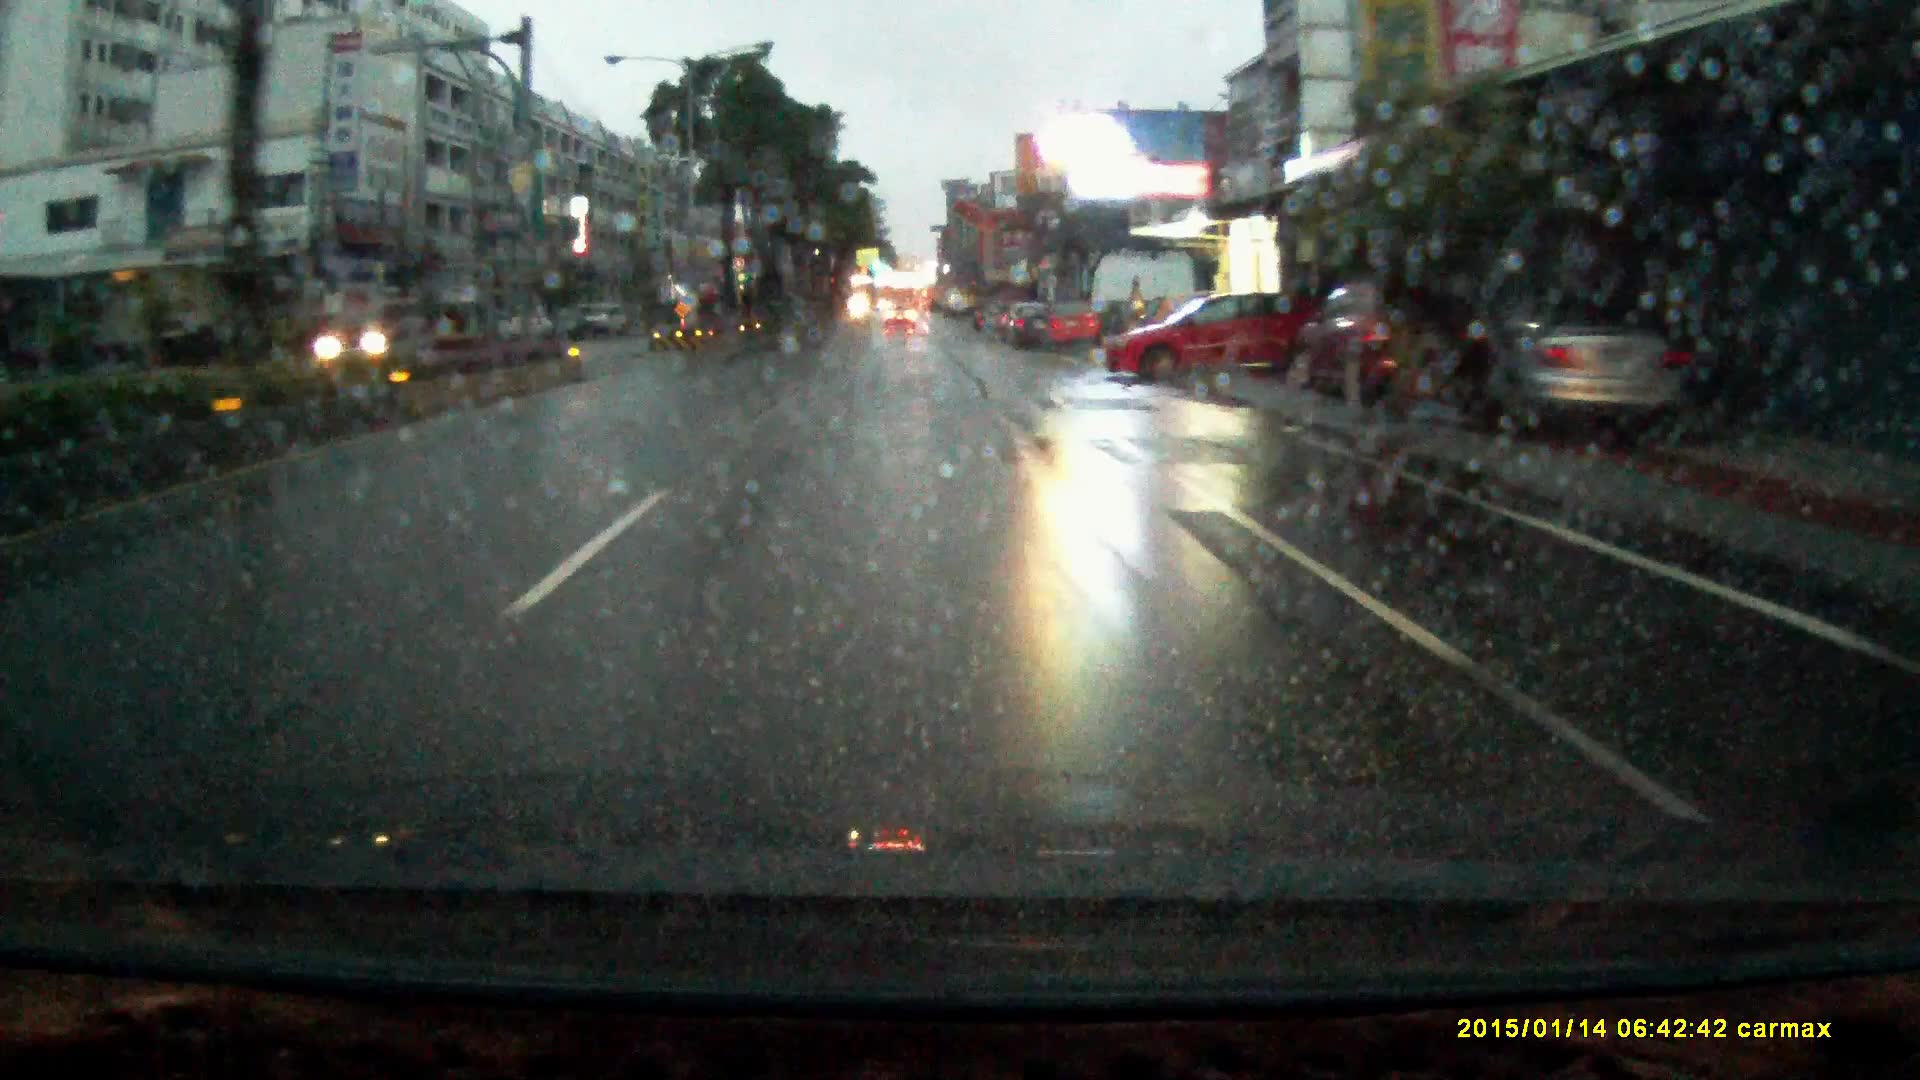vehicle: (1473, 293, 1708, 450), (1294, 276, 1491, 415), (1098, 289, 1316, 382), (303, 298, 429, 363), (1029, 299, 1102, 351), (998, 301, 1054, 348), (582, 301, 630, 338), (885, 305, 916, 334)
